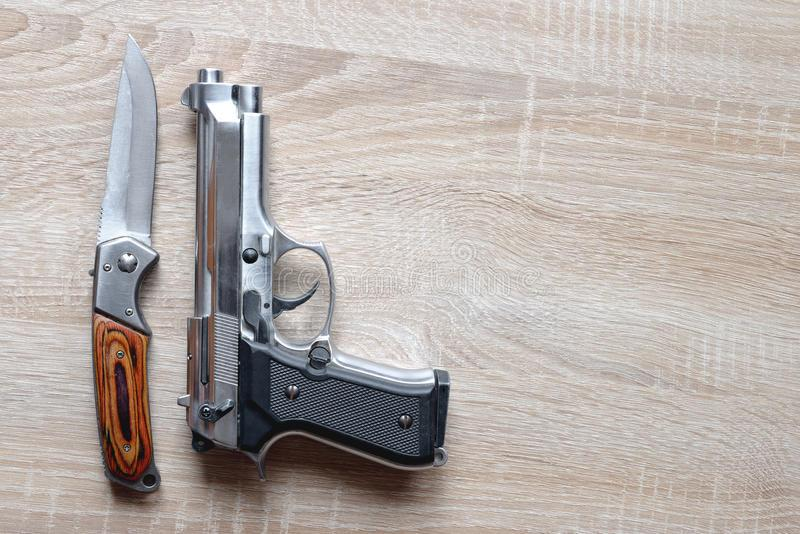weapon: (178, 66, 451, 483), (88, 30, 164, 494)
